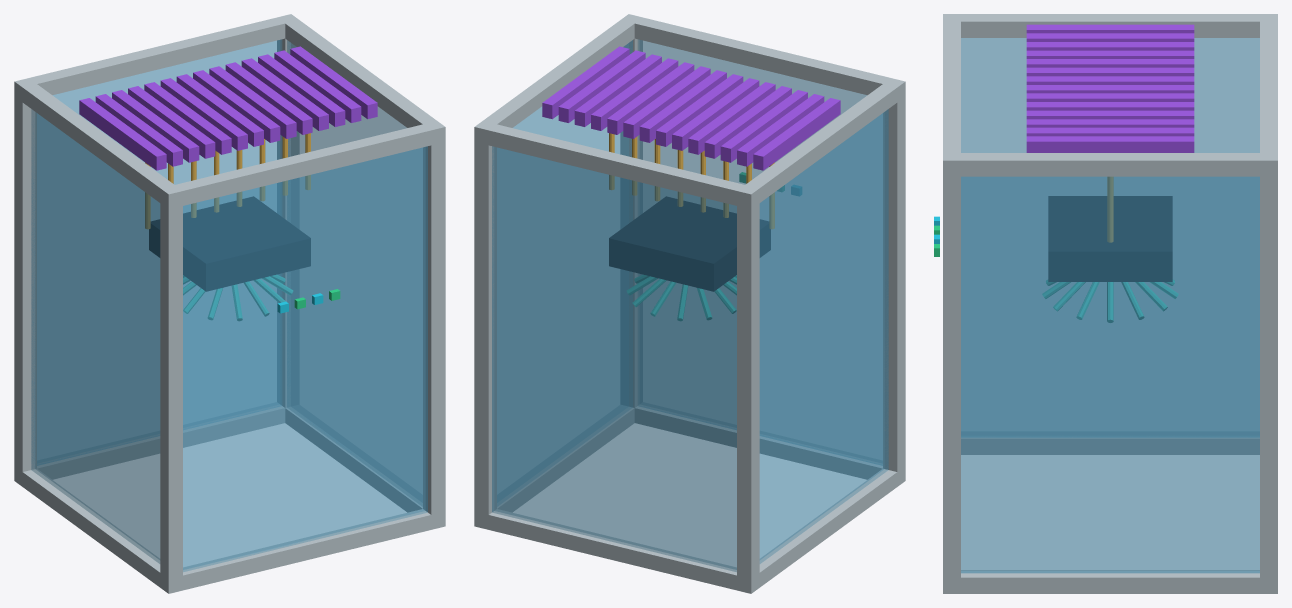
Rendered from 37_L79_LowDamageSurfaceActivationModule.fbx.
3 renders of one model, left to right at view 1: azimuth 30°, elevation 25°; view 2: azimuth 150°, elevation 25°; view 3: azimuth 270°, elevation 25°, orthographic. The views are drawn at different scales.
Visible parts, largest first — view 1: LowDamageSurfaceActivationModule, LowDamageSurfaceActivationModule_Part_0038; view 2: LowDamageSurfaceActivationModule, LowDamageSurfaceActivationModule_Part_0038; view 3: LowDamageSurfaceActivationModule, LowDamageSurfaceActivationModule_Part_0038.
Boxes of the visible parts, <box> form: LowDamageSurfaceActivationModule: <box>14,14,445,593</box>; LowDamageSurfaceActivationModule_Part_0038: <box>149,196,310,291</box>; LowDamageSurfaceActivationModule: <box>474,14,905,593</box>; LowDamageSurfaceActivationModule_Part_0038: <box>609,196,770,291</box>; LowDamageSurfaceActivationModule: <box>934,14,1277,593</box>; LowDamageSurfaceActivationModule_Part_0038: <box>1048,196,1172,281</box>.
Bounding box in the file's own units: 145 × 202 × 144.
